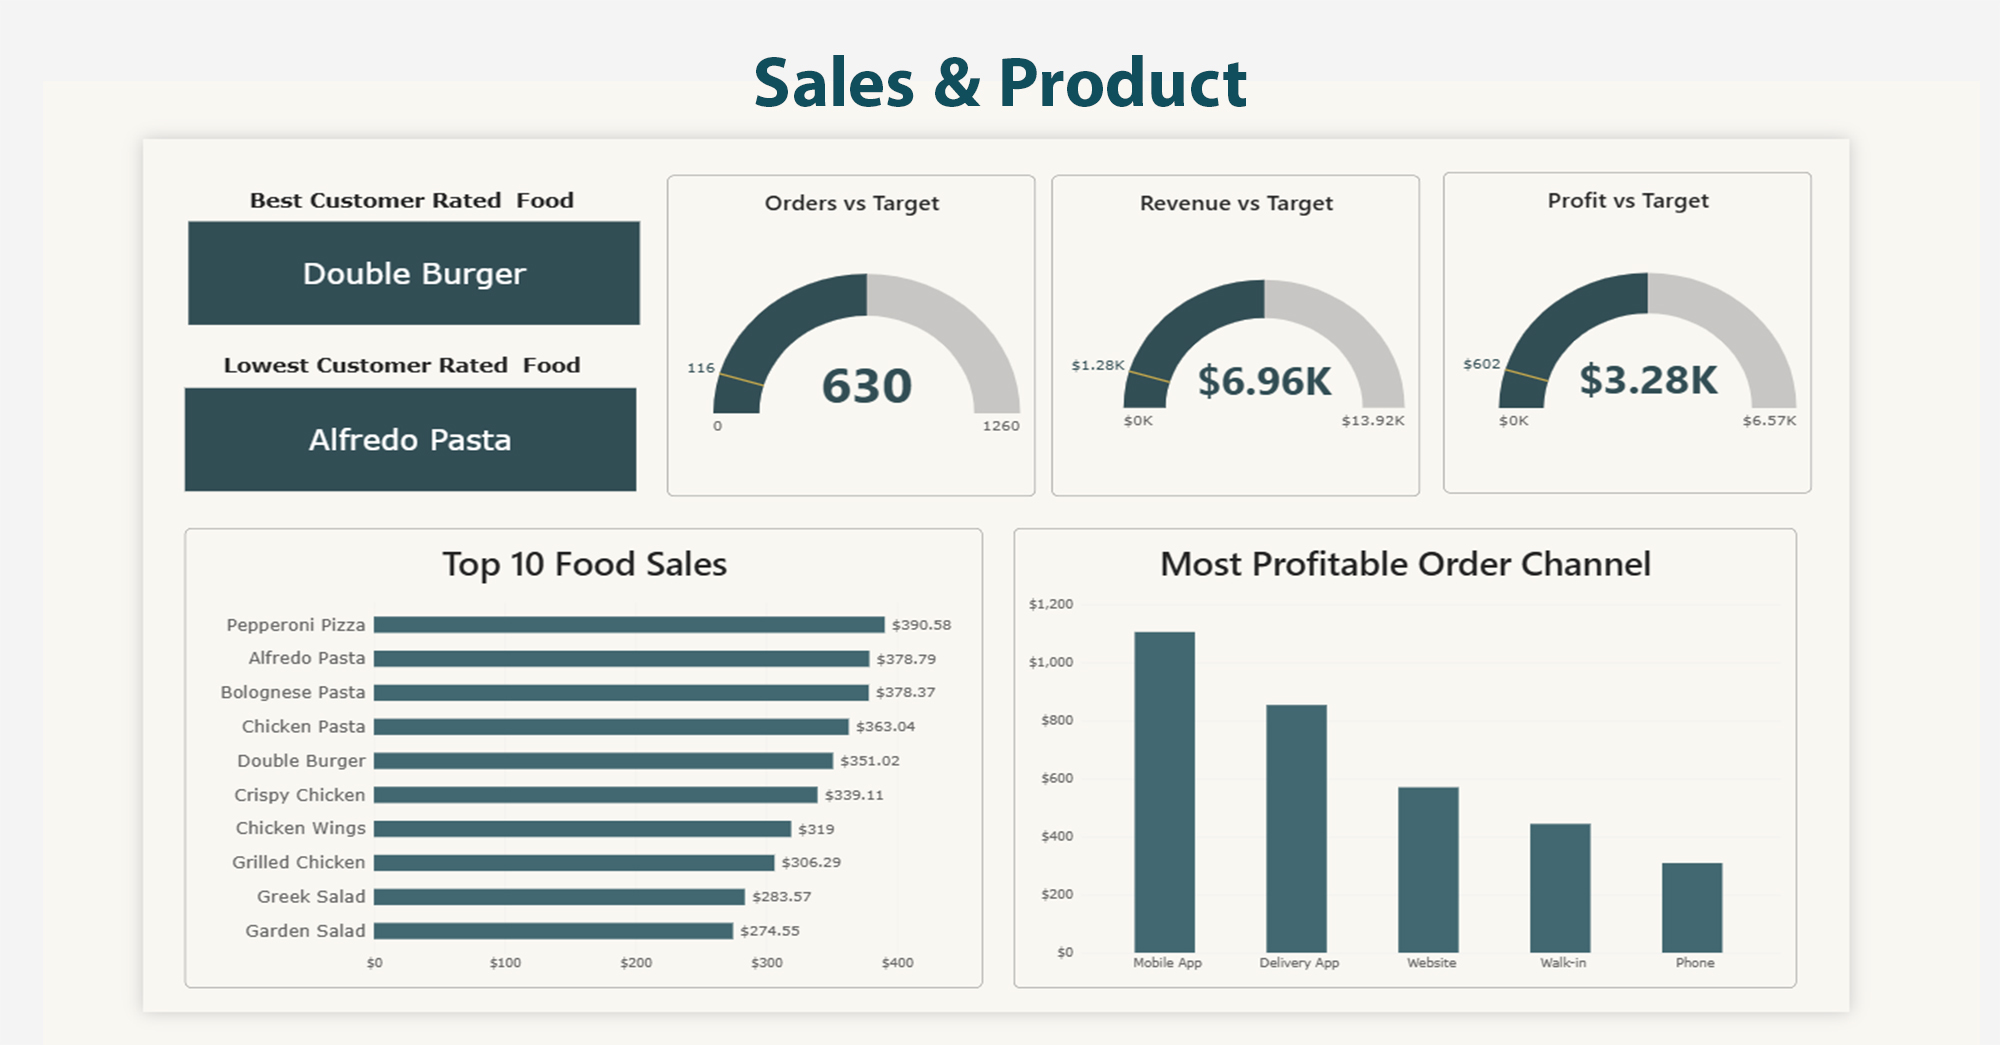

What the dashboard file says about the page in this screenshot:
{"tool":"powerbi","page":{"name":"Sales & Product","canvas":[1920,1080],"ordinal":1},"visuals":[{"type":"card","fields":{"Values":["Min(Restaurant Orders.Food Item)"]},"box":[51.4,102.9,508.4,128.2],"z":0,"group":"g1"},{"type":"card","fields":{"Values":["Min(Restaurant Orders.Food Item)"]},"box":[47.7,308.7,508.4,128.2],"z":0,"group":"g3"},{"type":"barChart","title":"Top 10 Food Sales","fields":{"Category":["Restaurant Orders.Food Item"],"Y":["Measure Table.Total Sales"]},"box":[47.8,482.6,897.8,569.6],"z":0},{"type":"textbox","box":[92.5,61.4,421.1,41.5],"z":1000,"group":"g1"},{"type":"textbox","box":[70.2,266,443.7,48.9],"z":1000,"group":"g3"},{"type":"group","id":"g1","title":"Group 1","box":[51.4,61.4,509.2,172],"z":6000,"group":"g2"},{"type":"columnChart","title":"Most Profitable Order Channel","fields":{"Category":["Restaurant Orders.Order Channel"],"Y":["Measure Table.Total Profit"]},"box":[980.4,482.6,880.4,569.6],"z":6000},{"type":"group","id":"g2","title":"Group 2","box":[47.7,61.4,513.6,377.3],"z":7000},{"type":"group","id":"g3","title":"Group 1","box":[47.7,266,507.9,172.1],"z":7000,"group":"g2"},{"type":"gauge","title":"Orders vs Target","fields":{"Y":["Measure Table.Total Orders"],"TargetValue":["Measure Table.Orders Target"]},"box":[589.1,46.2,414.5,397.3],"z":8000,"group":"g4"},{"type":"gauge","title":"Revenue vs Target","fields":{"Y":["Measure Table.Total Sales"],"TargetValue":["Measure Table.Revenue Target"]},"box":[1022.7,46.2,414.5,397.3],"z":9000,"group":"g4"},{"type":"gauge","title":"Profit vs Target","fields":{"Y":["Measure Table.Total Profit"],"TargetValue":["Measure Table.Profit Target"]},"box":[1461.6,41.3,414.5,397.3],"z":10000,"group":"g4"},{"type":"group","id":"g4","title":"Group 3","box":[589.1,41.3,1287,402.2],"z":10001}]}

Visuals, with their boxes on the page's 1920x1080 design canvas (x1, y1, x2, y2). These are canvas units, not pixel positions in the 2000x1045 screenshot, which may show the page scaled, cropped or inside an application window:
card - Min(Restaurant Orders.Food Item): box=[51, 103, 560, 231]
card - Min(Restaurant Orders.Food Item): box=[48, 309, 556, 437]
"Top 10 Food Sales" barChart: box=[48, 483, 946, 1052]
textbox: box=[92, 61, 514, 103]
textbox: box=[70, 266, 514, 315]
"Group 1" group: box=[51, 61, 561, 233]
"Most Profitable Order Channel" columnChart: box=[980, 483, 1861, 1052]
"Group 2" group: box=[48, 61, 561, 439]
"Group 1" group: box=[48, 266, 556, 438]
"Orders vs Target" gauge: box=[589, 46, 1004, 444]
"Revenue vs Target" gauge: box=[1023, 46, 1437, 444]
"Profit vs Target" gauge: box=[1462, 41, 1876, 439]
"Group 3" group: box=[589, 41, 1876, 444]
